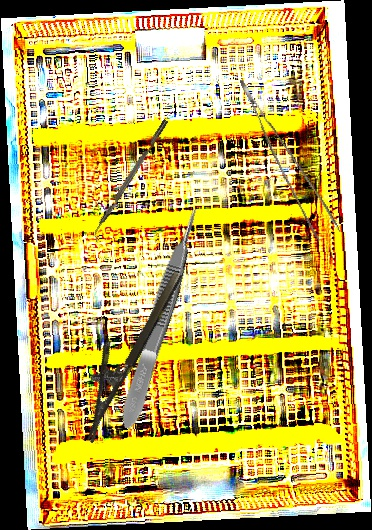Chopper: (87, 119, 175, 243)
Needle Holder: (59, 258, 185, 444)
Tissue Forceps: (114, 204, 209, 432), (239, 67, 341, 246)
